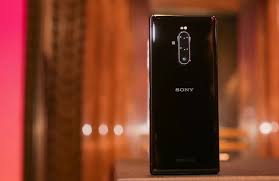sony: (147, 12, 221, 176)
